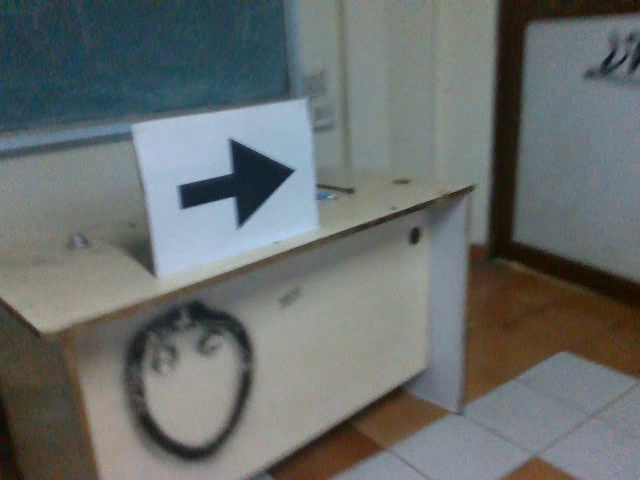Right: (175, 136, 295, 231)
